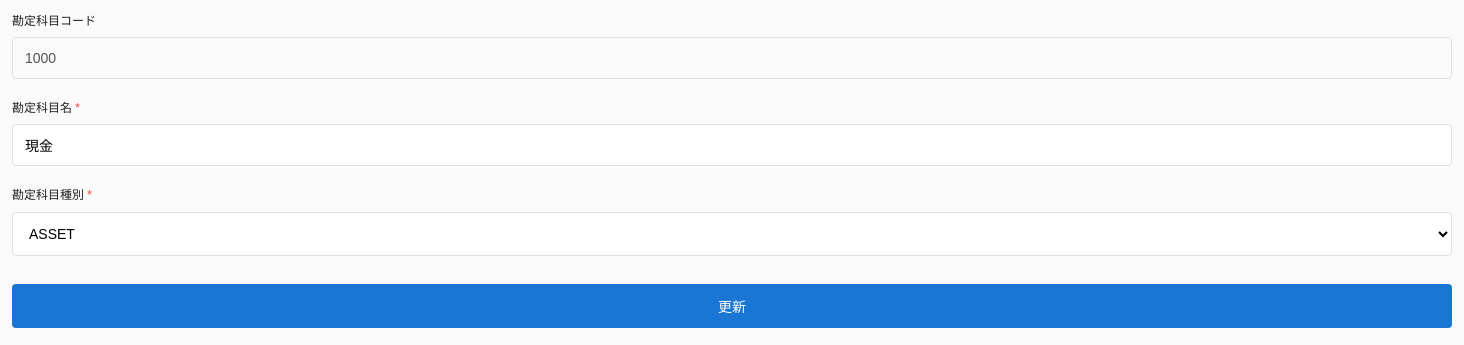
Test case: EditAccountForm › 送信中のボタン無効化
Click the button with test id "edit-account-submit".
click(732, 306)  # box left=12, top=284, right=1452, bottom=328
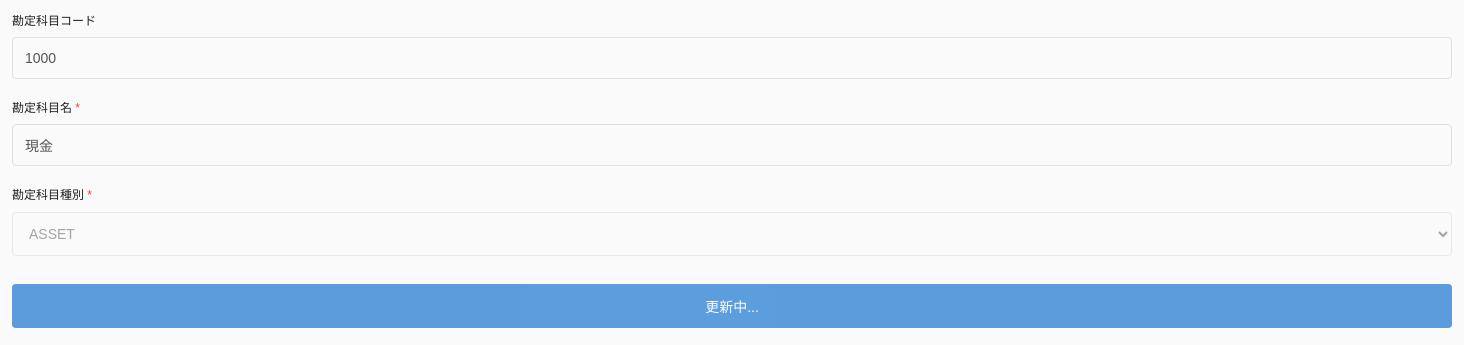
Check: the field with test id "edit-account-name-input" is disabled, box left=12, top=124, right=1452, bottom=166
Check: the dropdown with test id "edit-account-type-select" is disabled, box left=12, top=212, right=1452, bottom=256
Check: the button with test id "edit-account-submit" is disabled, box left=12, top=284, right=1452, bottom=328
